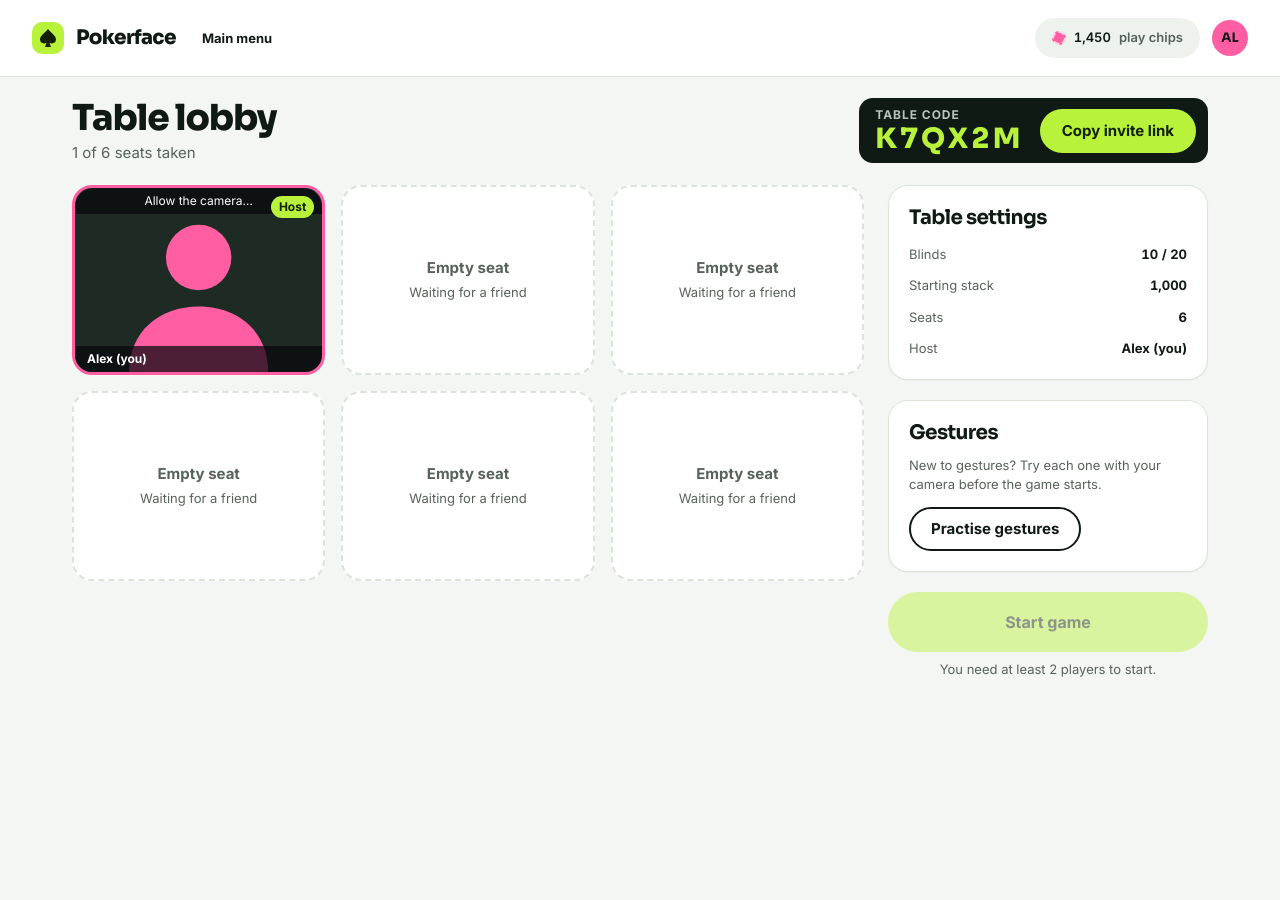
Test case: WaitingRoomPage › copies the invite link, or shows it when copying fails
Later steps or results of the test are not shown.
Click the button "Copy invite link" at (1118, 131), box x1=1040 y1=109 x2=1196 y2=153
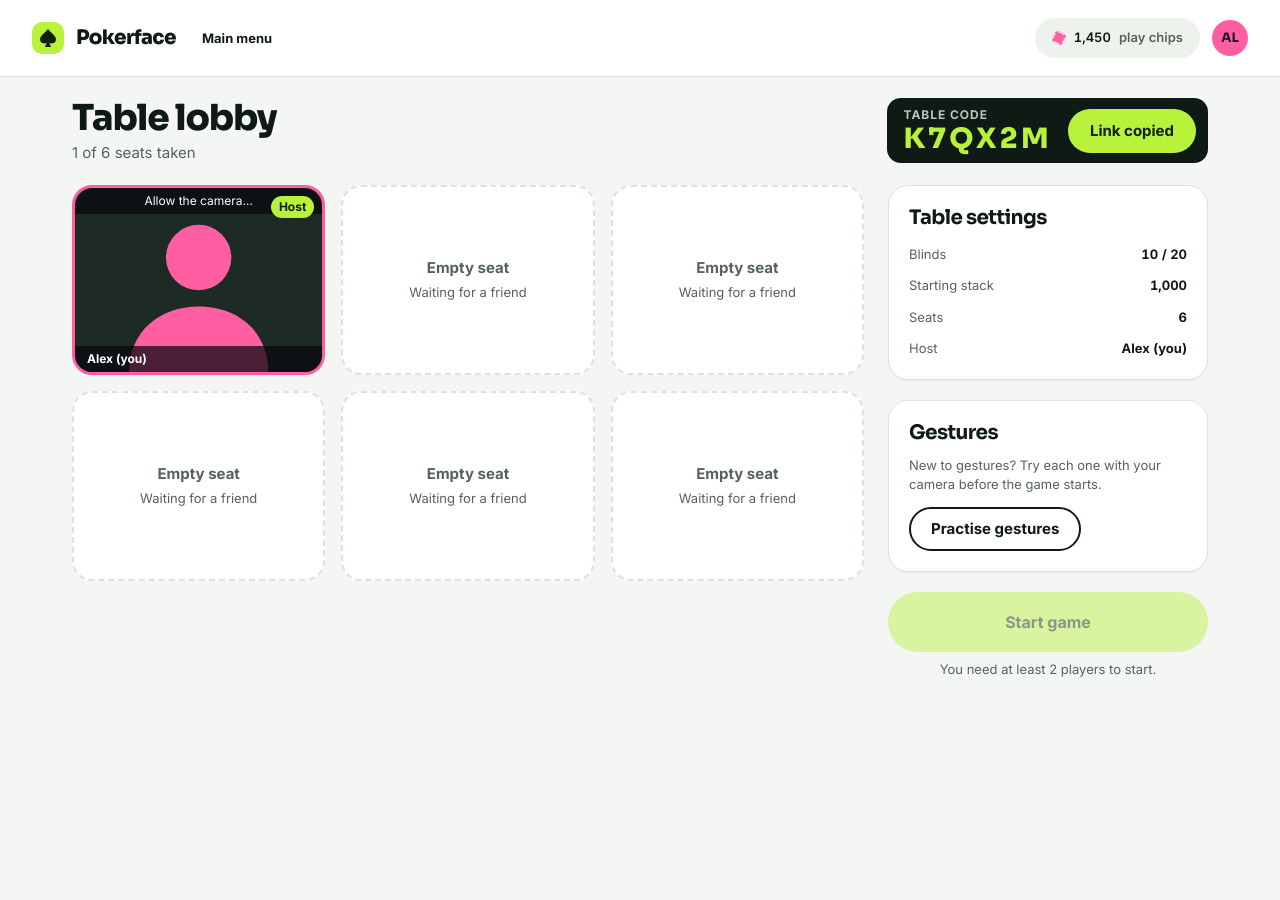
Now the button "Link copied" is shown, box x1=1068 y1=109 x2=1196 y2=153
